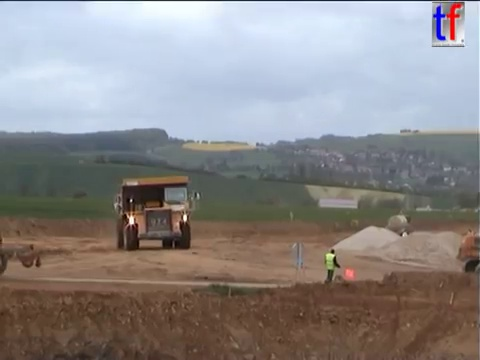excavator: (454, 227, 480, 285)
truck: (112, 174, 201, 251), (384, 214, 413, 237)
wheel loader: (1, 234, 43, 277)
worker: (322, 246, 342, 286)
